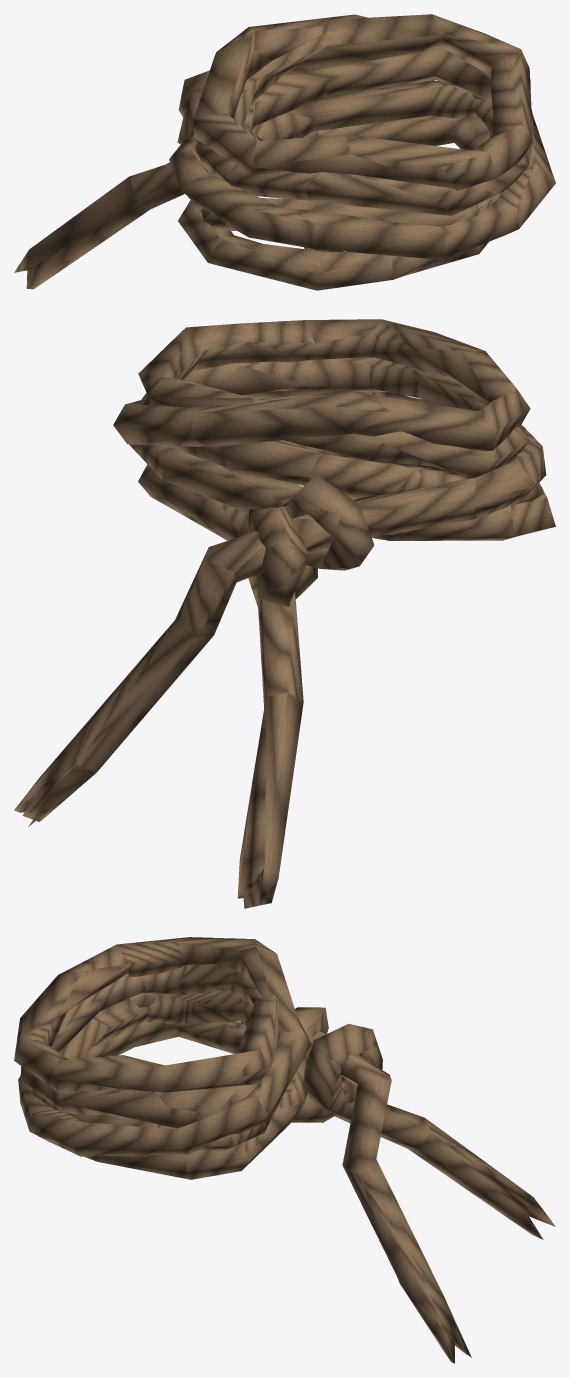
Rendered from Rope.fbx.
The picture shows the model from 3 angles, top to bottom: view 1: azimuth 30°, elevation 25°; view 2: azimuth 150°, elevation 25°; view 3: azimuth 270°, elevation 25°; orthographic projection. The views are drawn at different scales.
Visible parts, largest first — view 1: rope.001; view 2: rope.001; view 3: rope.001.
Boxes of the visible parts, x1,y1,x2,y2 form: rope.001: (14, 14, 555, 290); rope.001: (14, 319, 555, 908); rope.001: (14, 937, 555, 1363).
Size of the model in its own units: 57.93 by 57.37 by 84.48.
1 material, 1 textured.
